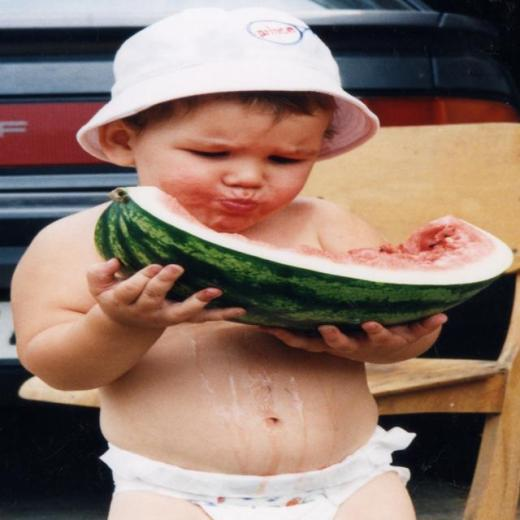Cherry: (94, 187, 514, 333)
